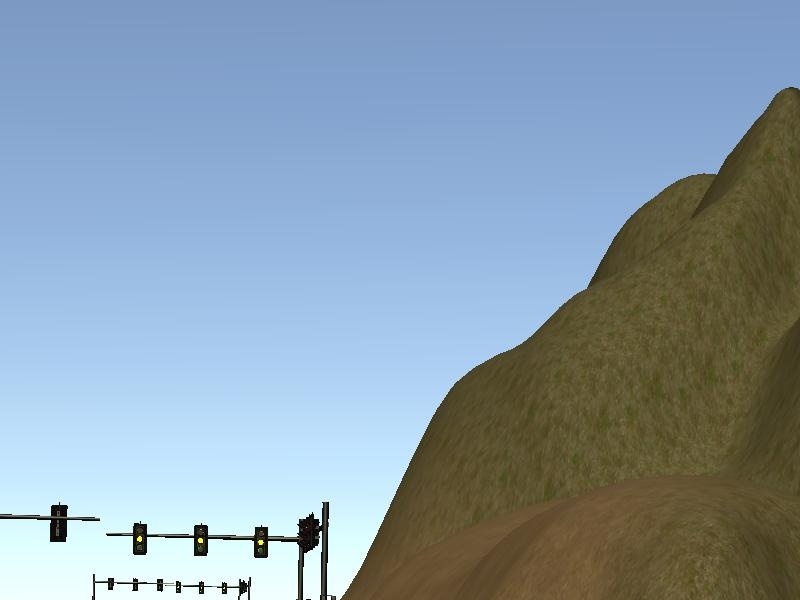yellow: (190, 520, 212, 562), (130, 517, 151, 559), (251, 523, 272, 562)
